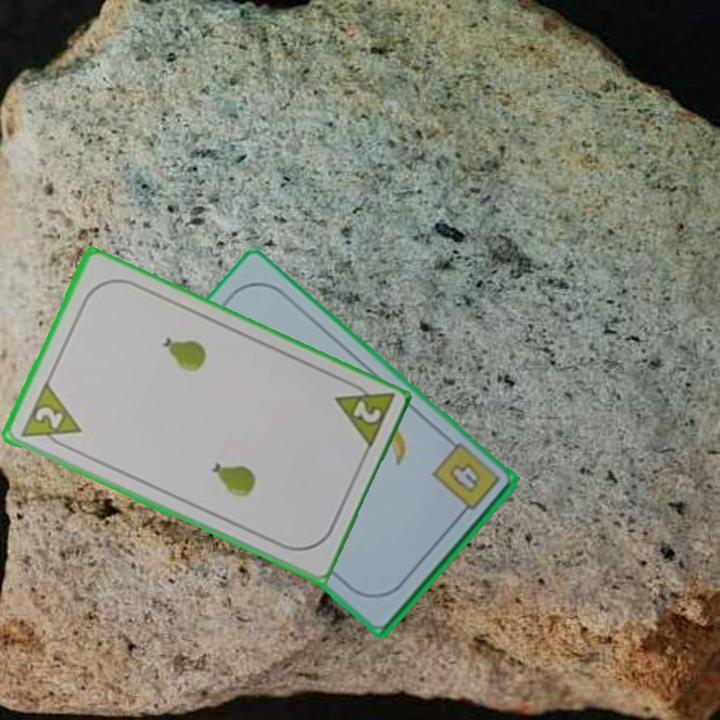2p: (330, 377, 396, 454), (16, 380, 84, 454)
4b: (428, 439, 503, 522)
